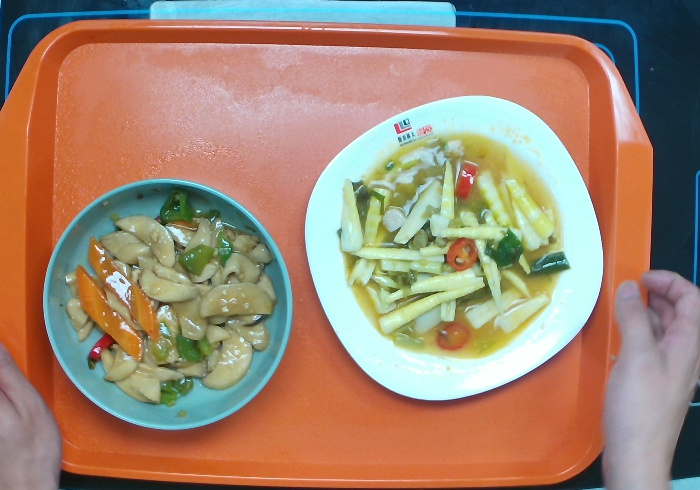ZNLD-Qing_Hua_Yuan_Wan: (41, 177, 294, 431)
ZNLD-Yuan_Jiao_Pan: (303, 94, 605, 402)
